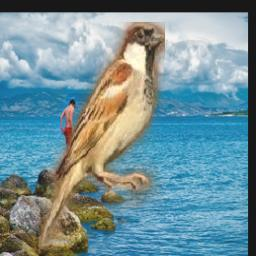Sparrow: (39, 23, 165, 250)
